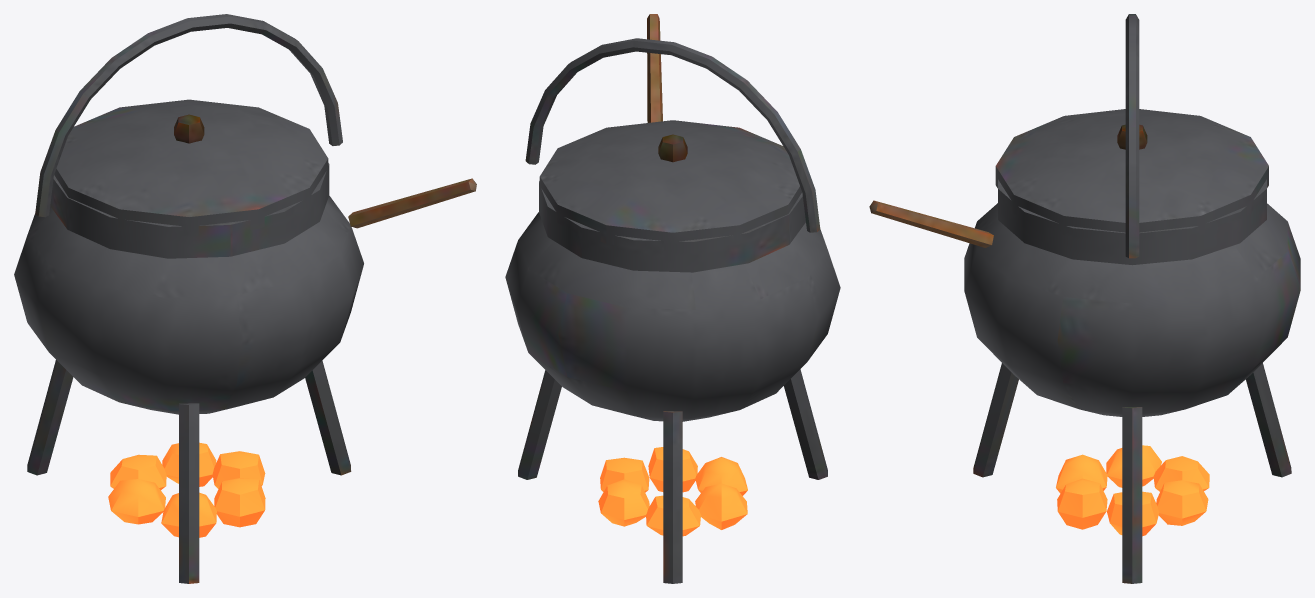
Rendered from crock-pot.glb.
3 views of the same model, side by side, from view 1: azimuth 30°, elevation 25°; view 2: azimuth 150°, elevation 25°; view 3: azimuth 270°, elevation 25° (orthographic). The views are drawn at different scales.
Visible parts, largest first — view 1: crock_pot; view 2: crock_pot; view 3: crock_pot.
Boxes of the visible parts, <box> form: crock_pot: <box>14,14,476,583</box>; crock_pot: <box>505,14,840,583</box>; crock_pot: <box>869,14,1300,583</box>.
Size of the model in its own units: 0.6196 by 0.9204 by 0.7499.
Materials: 4 (3 with a texture image).
